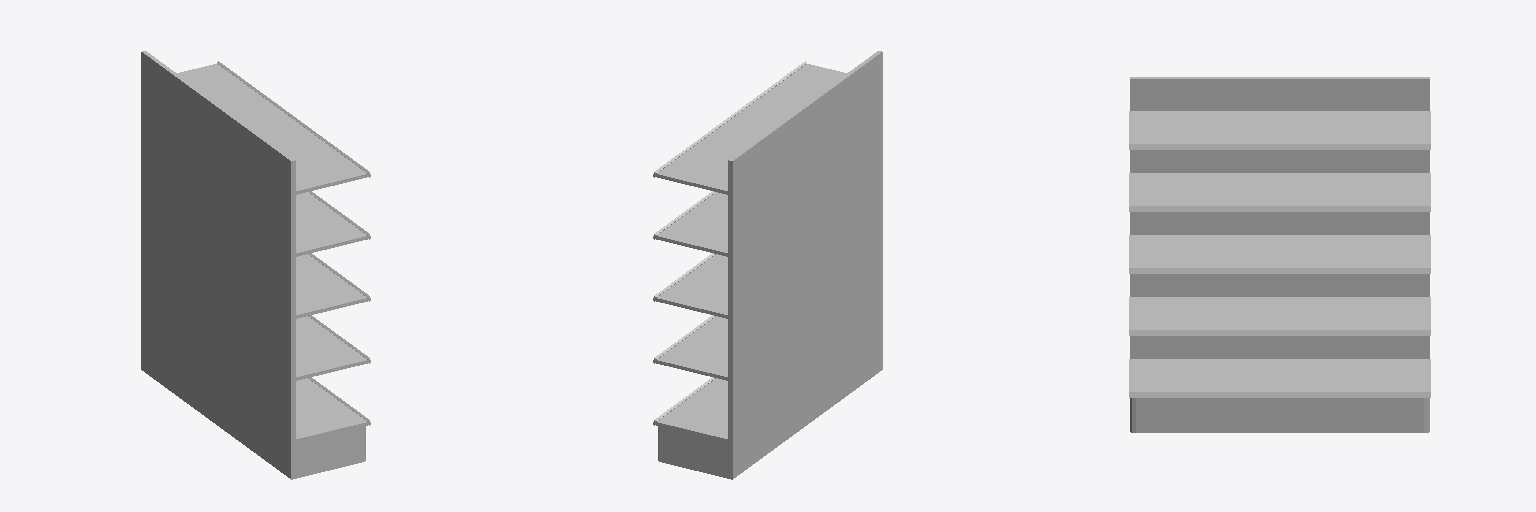
File: Shelf_mid_5.obj
3 views of the same model, side by side, from view 1: azimuth 30°, elevation 25°; view 2: azimuth 150°, elevation 25°; view 3: azimuth 270°, elevation 25° (orthographic).
Visible parts, largest first — view 1: Shelf_mid_5_Cube.007; view 2: Shelf_mid_5_Cube.007; view 3: Shelf_mid_5_Cube.007.
Boxes of the visible parts, x1=… form: Shelf_mid_5_Cube.007: x1=141, y1=51, x2=370, y2=479; Shelf_mid_5_Cube.007: x1=653, y1=51, x2=882, y2=479; Shelf_mid_5_Cube.007: x1=1129, y1=77, x2=1430, y2=432.
Bounding box in the file's own units: 1.04 × 4 × 3.44.